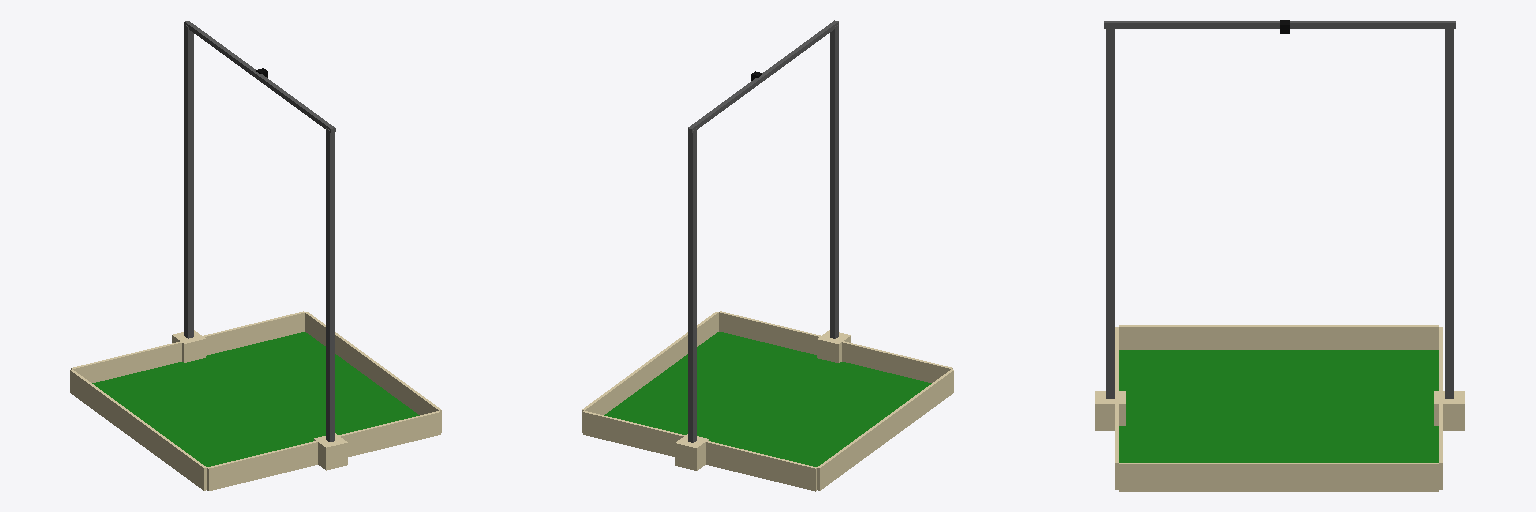
robot.urdf — field:
<?xml version="1.0" encoding="utf-8"?>
<robot name="field">
  <link name="field">
    <inertial>
      <origin xyz="-0.0654 -0.0327 0.1477" rpy="0 0 0"/>
      <mass value="29.46"/>
      <inertia ixx="3.874" ixy="0" ixz="0" iyy="4.056" iyz="0" izz="7.489"/>
    </inertial>

    <visual>
      <origin xyz="-0.06 -0.03 0.015" rpy="0 0 0"/>
      <geometry>
        <box size="1.6 1.6 0.02"/>
      </geometry>
      <material name="floor_green">
        <color rgba="0.15 0.55 0.15 1"/>
      </material>
    </visual>

    <collision>
      <origin xyz="-0.06 -0.03 0.015" rpy="0 0 0"/>
      <geometry>
        <box size="1.6 1.6 0.02"/>
      </geometry>
    </collision>
  </link>

  <joint name="camera_joint" type="fixed">
    <parent link="field"/>
    <child link="camera_link"/>
    <origin xyz="0.0 0.0 2.2" rpy="0 1.5708 0"/>
  </joint>

  <link name="camera_link">
    <visual>
      <geometry>
        <box size="0.05 0.05 0.05"/>
      </geometry>
      <material name="camera_black">
        <color rgba="0.1 0.1 0.1 1"/>
      </material>
    </visual>
    <inertial>
      <mass value="0.1"/>
      <inertia ixx="0.0001" ixy="0" ixz="0" iyy="0.0001" iyz="0" izz="0.0001"/>
    </inertial>
  </link>

  <link name="left_pole">
    <visual>
      <origin xyz="0 0 1.1" rpy="0 0 0"/>
      <geometry>
        <box size="0.04 0.04 2.2"/>
      </geometry>
      <material name="pole_gray">
        <color rgba="0.4 0.4 0.4 1"/>
      </material>
    </visual>
  </link>

  <joint name="left_pole_joint" type="fixed">
    <parent link="field"/>
    <child link="left_pole"/>
    <origin xyz="-0.03 0.82 0" rpy="0 0 0"/>
  </joint>

  <link name="right_pole">
    <visual>
      <origin xyz="0 0 1.1" rpy="0 0 0"/>
      <geometry>
        <box size="0.04 0.04 2.2"/>
      </geometry>
      <material name="pole_gray">
        <color rgba="0.4 0.4 0.4 1"/>
      </material>
    </visual>
  </link>

  <joint name="right_pole_joint" type="fixed">
    <parent link="field"/>
    <child link="right_pole"/>
    <origin xyz="-0.03 -0.87 0" rpy="0 0 0"/>
  </joint>

  <link name="crossbar">
    <visual>
      <origin xyz="0 0 0" rpy="0 0 0"/>
      <geometry>
        <box size="0.03 1.75 0.03"/>
      </geometry>
      <material name="pole_gray">
        <color rgba="0.4 0.4 0.4 1"/>
      </material>
    </visual>
  </link>

  <joint name="crossbar_joint" type="fixed">
    <parent link="field"/>
    <child link="crossbar"/>
    <origin xyz="-0.03 -0.025 2.2" rpy="0 0 0"/>
  </joint>

  <link name="left_pole_base">
    <visual>
      <origin xyz="0 0 0.075" rpy="0 0 0"/>
      <geometry><box size="0.15 0.15 0.15"/></geometry>
      <material name="wall">
        <color rgba="0.90 0.85 0.70 1"/>
      </material>
    </visual>
  </link>

  <joint name="left_pole_base_joint" type="fixed">
    <parent link="field"/>
    <child link="left_pole_base"/>
    <origin xyz="-0.03 0.82 0" rpy="0 0 0"/>
  </joint>

  <link name="right_pole_base">
    <visual>
      <origin xyz="0 0 0.075" rpy="0 0 0"/>
      <geometry><box size="0.15 0.15 0.15"/></geometry>
      <material name="wall">
        <color rgba="0.90 0.85 0.70 1"/>
      </material>
    </visual>
  </link>

  <joint name="right_pole_base_joint" type="fixed">
    <parent link="field"/>
    <child link="right_pole_base"/>
    <origin xyz="-0.03 -0.87 0" rpy="0 0 0"/>
  </joint>

  <link name="wall_right">
    <inertial>
      <origin xyz="0 0 0" rpy="0 0 0"/>
      <mass value="0.5"/>
      <inertia ixx="0.01" ixy="0" ixz="0" iyy="0.01" iyz="0" izz="0.01"/>
    </inertial>
    <visual>
      <geometry><box size="0.02 1.6 0.15"/></geometry>
      <material name="wall"><color rgba="0.90 0.85 0.70 1"/></material>
    </visual>
    <collision>
      <geometry><box size="0.02 1.6 0.15"/></geometry>
    </collision>
  </link>

  <joint name="wall_right_joint" type="fixed">
    <parent link="field"/>
    <child link="wall_right"/>
    <origin xyz="0.75 -0.03 0.075" rpy="0 0 0"/>
  </joint>

  <link name="wall_left">
    <inertial>
      <origin xyz="0 0 0" rpy="0 0 0"/>
      <mass value="0.5"/>
      <inertia ixx="0.01" ixy="0" ixz="0" iyy="0.01" iyz="0" izz="0.01"/>
    </inertial>
    <visual>
      <geometry><box size="0.02 1.6 0.15"/></geometry>
      <material name="wall"><color rgba="0.90 0.85 0.70 1"/></material>
    </visual>
    <collision>
      <geometry><box size="0.02 1.6 0.15"/></geometry>
    </collision>
  </link>

  <joint name="wall_left_joint" type="fixed">
    <parent link="field"/>
    <child link="wall_left"/>
    <origin xyz="-0.87 -0.03 0.075" rpy="0 0 0"/>
  </joint>

  <link name="wall_top">
    <inertial>
      <origin xyz="0 0 0" rpy="0 0 0"/>
      <mass value="0.5"/>
      <inertia ixx="0.01" ixy="0" ixz="0" iyy="0.01" iyz="0" izz="0.01"/>
    </inertial>
    <visual>
      <geometry><box size="1.6 0.02 0.15"/></geometry>
      <material name="wall"><color rgba="0.90 0.85 0.70 1"/></material>
    </visual>
    <collision>
      <geometry><box size="1.6 0.02 0.15"/></geometry>
    </collision>
  </link>

  <joint name="wall_top_joint" type="fixed">
    <parent link="field"/>
    <child link="wall_top"/>
    <origin xyz="-0.06 0.78 0.075" rpy="0 0 0"/>
  </joint>

  <link name="wall_bottom">
    <inertial>
      <origin xyz="0 0 0" rpy="0 0 0"/>
      <mass value="0.5"/>
      <inertia ixx="0.01" ixy="0" ixz="0" iyy="0.01" iyz="0" izz="0.01"/>
    </inertial>
    <visual>
      <geometry><box size="1.6 0.02 0.15"/></geometry>
      <material name="wall"><color rgba="0.90 0.85 0.70 1"/></material>
    </visual>
    <collision>
      <geometry><box size="1.6 0.02 0.15"/></geometry>
    </collision>
  </link>

  <joint name="wall_bottom_joint" type="fixed">
    <parent link="field"/>
    <child link="wall_bottom"/>
    <origin xyz="-0.06 -0.84 0.075" rpy="0 0 0"/>
  </joint>

  <gazebo>
    <static>true</static>
    <plugin filename="gz-sim-sensors-system" name="gz::sim::systems::Sensors">
      <render_engine>ogre2</render_engine>
    </plugin>
  </gazebo>

  <gazebo reference="camera_link">
    <sensor name="overhead_camera" type="camera">
      <pose>0 0 0 0 0 0</pose>
      <topic>/overhead_camera/image_raw</topic>
      <always_on>1</always_on>
      <update_rate>30</update_rate>
      <visualize>true</visualize>
      <camera>
        <horizontal_fov>0.930</horizontal_fov>
        <image>
          <width>640</width>
          <height>480</height>
          <format>R8G8B8</format>
        </image>
        <clip>
          <near>0.1</near>
          <far>50</far>
        </clip>
      </camera>
    </sensor>
  </gazebo>

</robot>

--- Render facts (derived) ---
Views: 3 orthographic renders of the robot side by side, from view 1: azimuth 30°, elevation 25°; view 2: azimuth 150°, elevation 25°; view 3: azimuth 270°, elevation 25°.
Robot: field — 11 links, 10 joints (10 fixed); root link field; default pose: all joints at 0.
Visible links, largest first — view 1: field, wall_bottom, wall_top, wall_left, left_pole, right_pole, wall_right, crossbar, right_pole_base, left_pole_base; view 2: field, wall_top, wall_bottom, wall_left, left_pole, right_pole, wall_right, crossbar, left_pole_base, right_pole_base; view 3: field, wall_right, wall_left, left_pole, right_pole, crossbar, left_pole_base, right_pole_base, wall_top, wall_bottom.
Boxes of the visible links, x1,y1,x2,y2 form: field: [92, 332, 419, 466]; wall_bottom: [207, 411, 440, 490]; wall_top: [71, 311, 304, 382]; wall_left: [70, 369, 206, 490]; left_pole: [184, 25, 193, 338]; right_pole: [326, 128, 334, 441]; wall_right: [305, 312, 441, 432]; crossbar: [184, 21, 335, 132]; right_pole_base: [314, 433, 347, 470]; left_pole_base: [172, 330, 205, 362]; field: [604, 332, 931, 466]; wall_top: [583, 411, 816, 491]; wall_bottom: [719, 311, 952, 382]; wall_left: [817, 369, 953, 490]; left_pole: [688, 128, 696, 442]; right_pole: [830, 25, 838, 338]; wall_right: [582, 312, 718, 432]; crossbar: [688, 20, 838, 133]; left_pole_base: [675, 434, 708, 470]; right_pole_base: [817, 330, 850, 362]; field: [1119, 350, 1438, 462]; wall_right: [1119, 463, 1438, 491]; wall_left: [1119, 325, 1438, 349]; left_pole: [1445, 26, 1453, 398]; right_pole: [1106, 26, 1114, 398]; crossbar: [1104, 21, 1455, 28]; left_pole_base: [1434, 391, 1464, 430]; right_pole_base: [1095, 391, 1125, 430]; wall_top: [1439, 327, 1442, 489]; wall_bottom: [1115, 327, 1118, 489].
Size in the robot's own frame: 1.64 by 1.84 by 2.23 metres.
Geometry: primitives only (box / cylinder / sphere), no mesh files.
